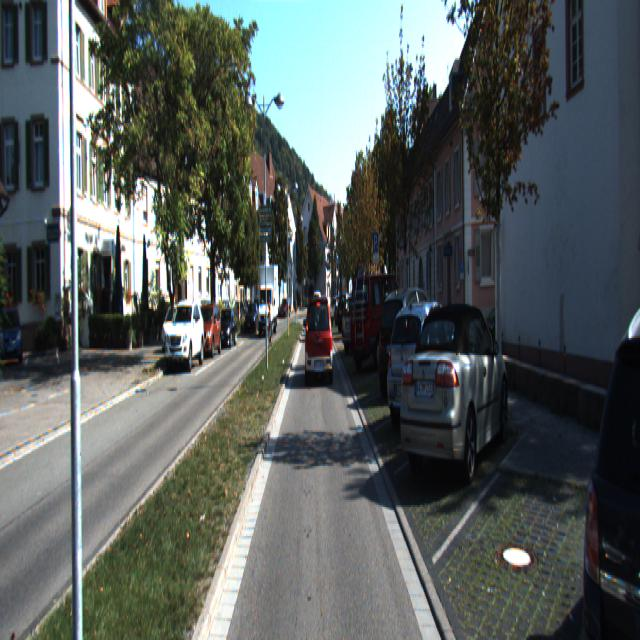Car: (398, 297, 511, 488), (583, 285, 639, 638), (384, 294, 470, 434), (377, 283, 446, 401), (348, 272, 408, 371), (166, 300, 204, 371), (342, 296, 386, 356), (306, 298, 334, 386), (194, 304, 222, 360), (256, 270, 279, 338), (1, 306, 23, 363), (334, 294, 363, 334), (162, 307, 185, 355), (215, 310, 237, 350), (243, 303, 261, 334)
